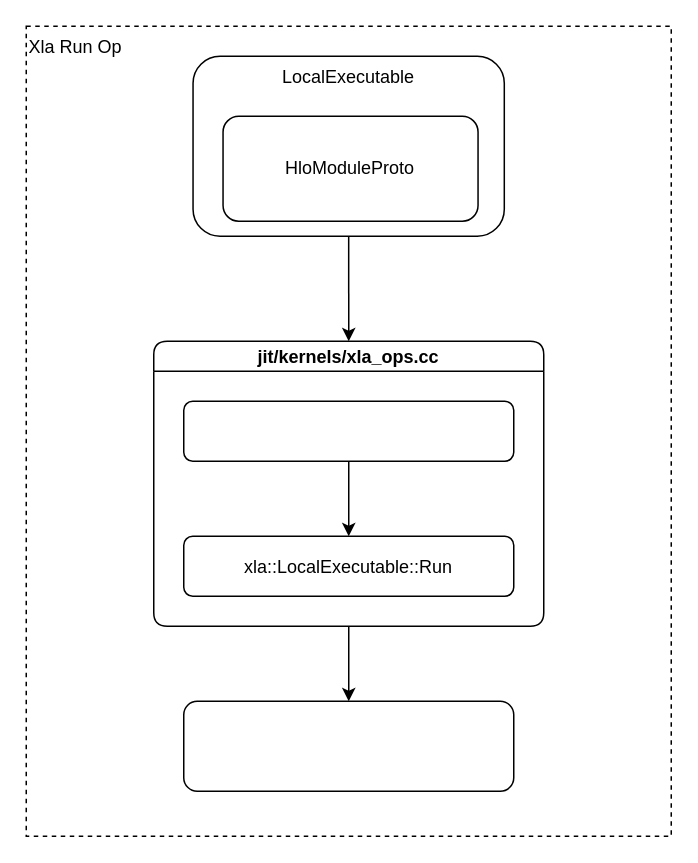
Image size: 698x863. Some labels were removed from this diagram. Each missing label, with the centre of its shape:
RunExecutable: point 348,430
xla::ExecutionOutput: point 348,745
